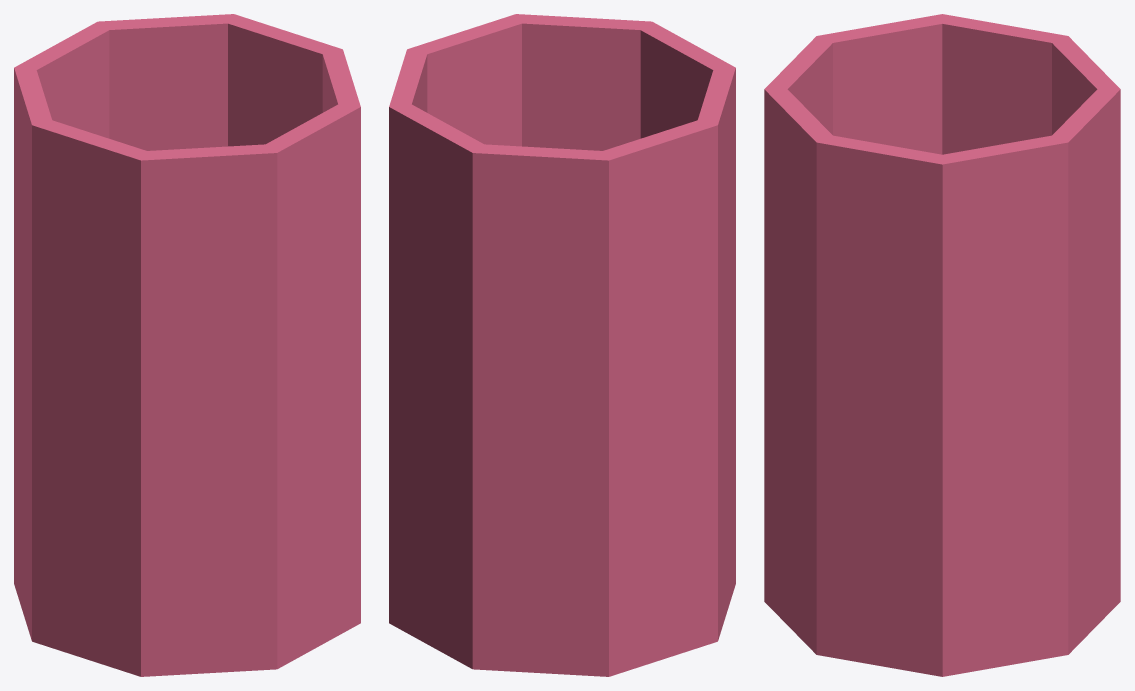
The model's file is PotRose.fbx.
3 renders of one model, left to right at view 1: azimuth 30°, elevation 25°; view 2: azimuth 150°, elevation 25°; view 3: azimuth 270°, elevation 25°, orthographic.
Visible parts, largest first — view 1: Pot1; view 2: Pot1; view 3: Pot1.
Part boxes in pixels (left/top/right/bottom): Pot1: left=14, top=14, right=360, bottom=676; Pot1: left=389, top=14, right=735, bottom=676; Pot1: left=764, top=14, right=1120, bottom=676.
Bounding box in the file's own units: 0.1039 × 0.165 × 0.1039.
